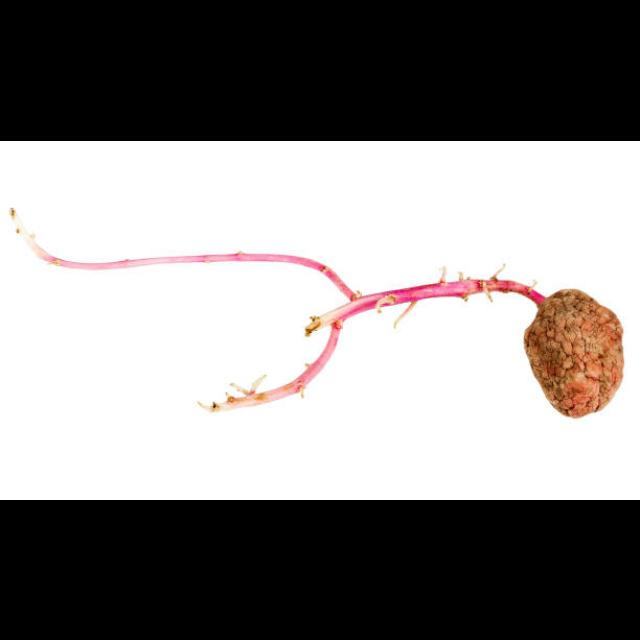Sprouted potato: (310, 220, 638, 442)
